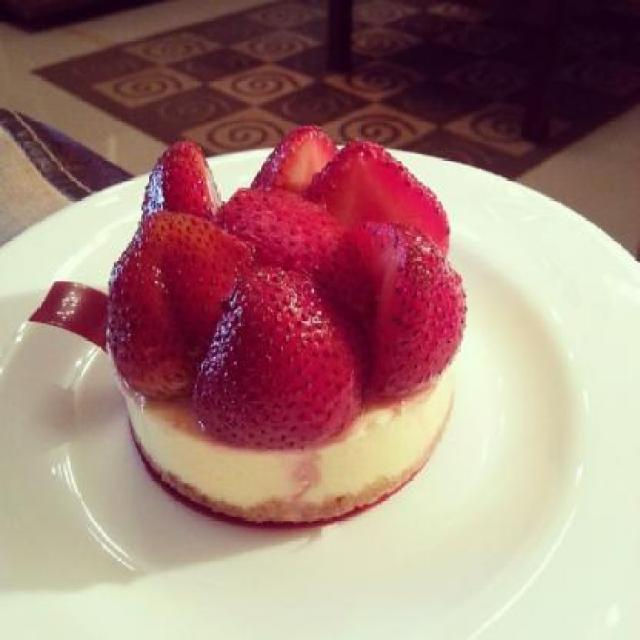Strawberry: (136, 128, 433, 457)
